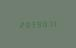nine: (35, 20, 40, 27)
one: (53, 19, 58, 27)
seven: (47, 19, 52, 27)
three: (29, 20, 34, 28)
two: (17, 20, 22, 28)
zero: (23, 20, 28, 28), (41, 19, 46, 27)
